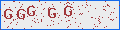G: (4, 9, 12, 19), (17, 9, 25, 19), (27, 6, 35, 16), (48, 8, 56, 18), (64, 6, 72, 16)
